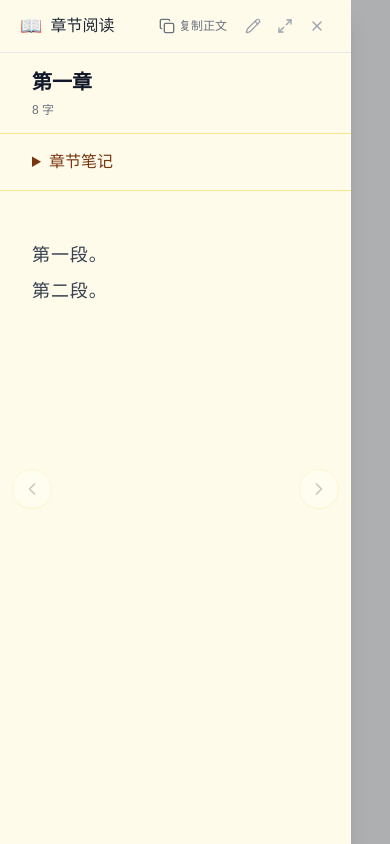
it: NodeDetailDrawer › keeps one inline editor and closes it outside, appMode=false
Click the button with aria-label "编辑段落". click: (70, 255)
box: [32,245,108,265]
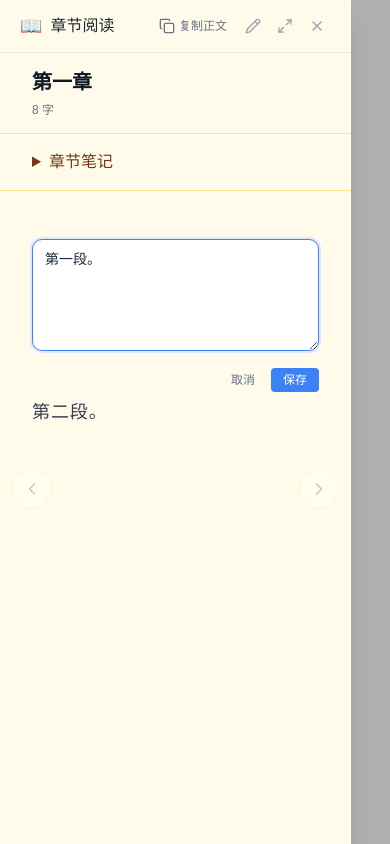
Result: the number of text boxes named "编辑段落内容" is 1 at [32,239,319,351]
Press the mouse on the button with aria-label "编辑段落" at (70, 412), box [32,402,108,422]
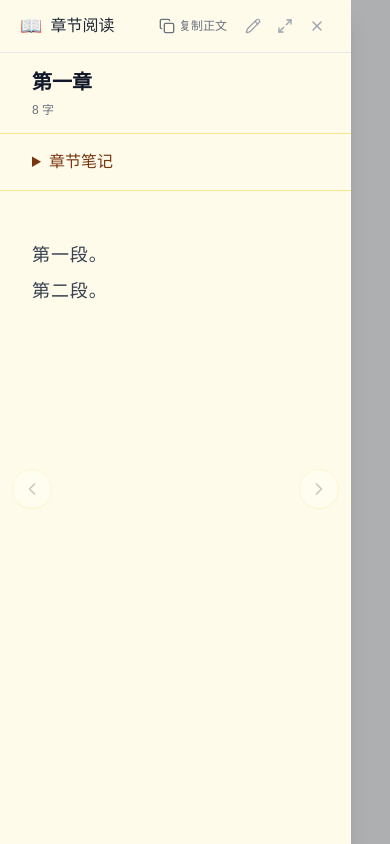
Click the button with aria-label "编辑段落". click: (70, 291)
box: [32,281,108,301]
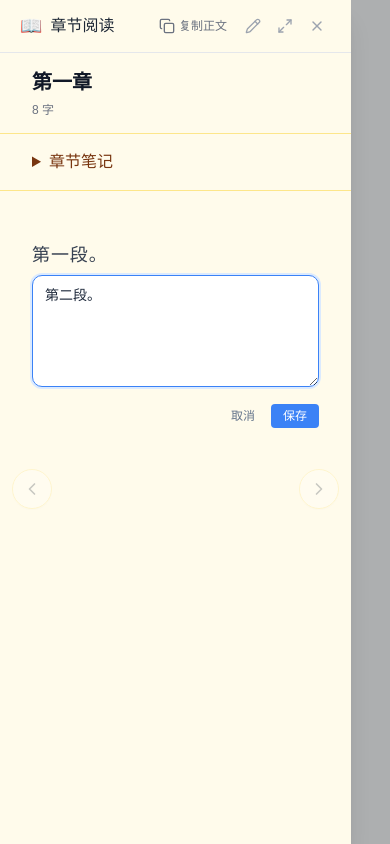
Result: the number of text boxes named "编辑段落内容" is 1 at [32,275,319,387]
Result: the text box named "编辑段落内容" holds "第二段。" at [32,275,319,387]
Press the mouse on the element with test id "chapter-detail-header" at (176, 94), box [0,53,351,134]
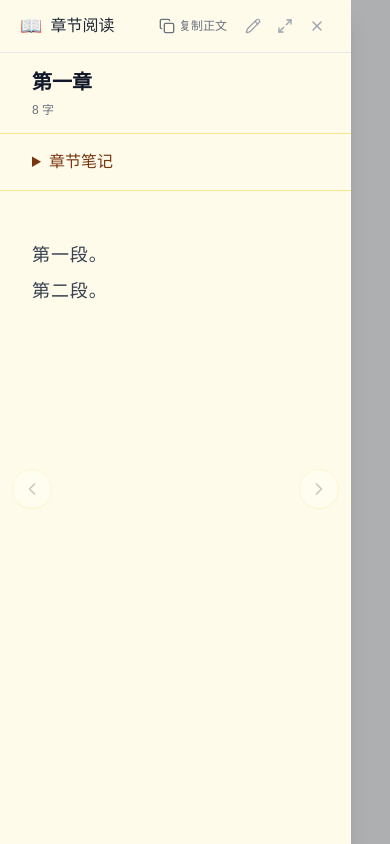
Result: the text box labelled "编辑段落内容" is gone
